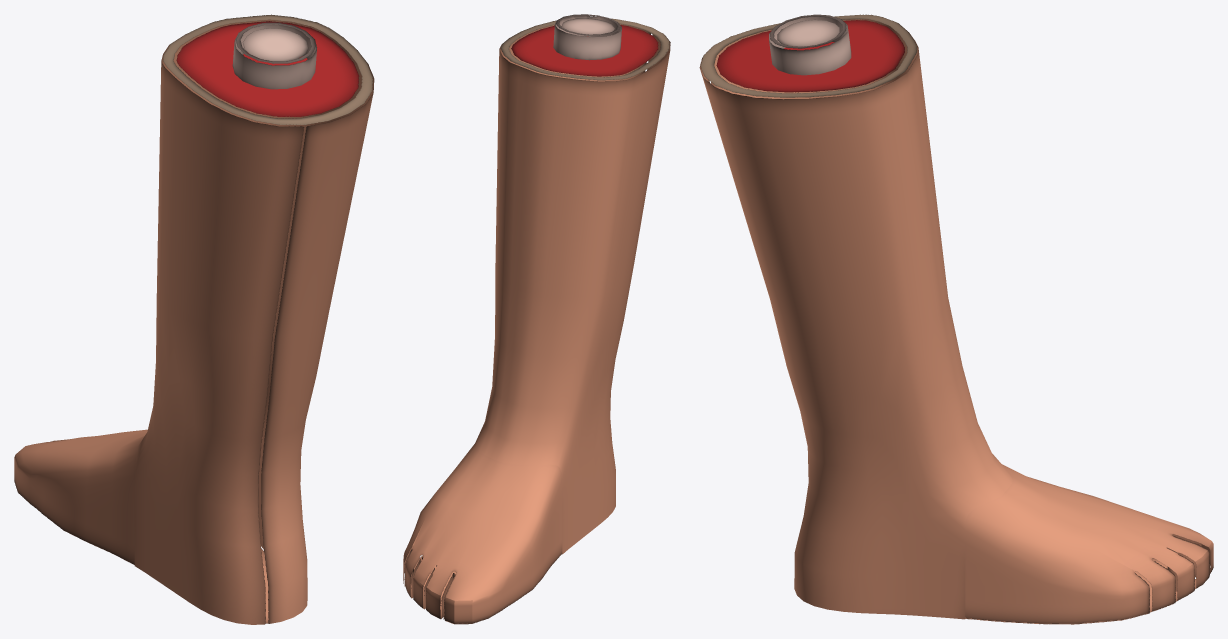
Rendered from foot.fbx.
The picture shows the model from 3 angles, left to right: view 1: azimuth 30°, elevation 25°; view 2: azimuth 150°, elevation 25°; view 3: azimuth 270°, elevation 25°; orthographic projection. The views are drawn at different scales.
Visible parts, largest first — view 1: Plane.002; view 2: Plane.002; view 3: Plane.002.
Part boxes in pixels (<box>): Plane.002: <box>14,14,374,624</box>; Plane.002: <box>403,14,670,624</box>; Plane.002: <box>699,14,1213,624</box>.
Size of the model in its own units: 26.18 by 86.16 by 71.38.
